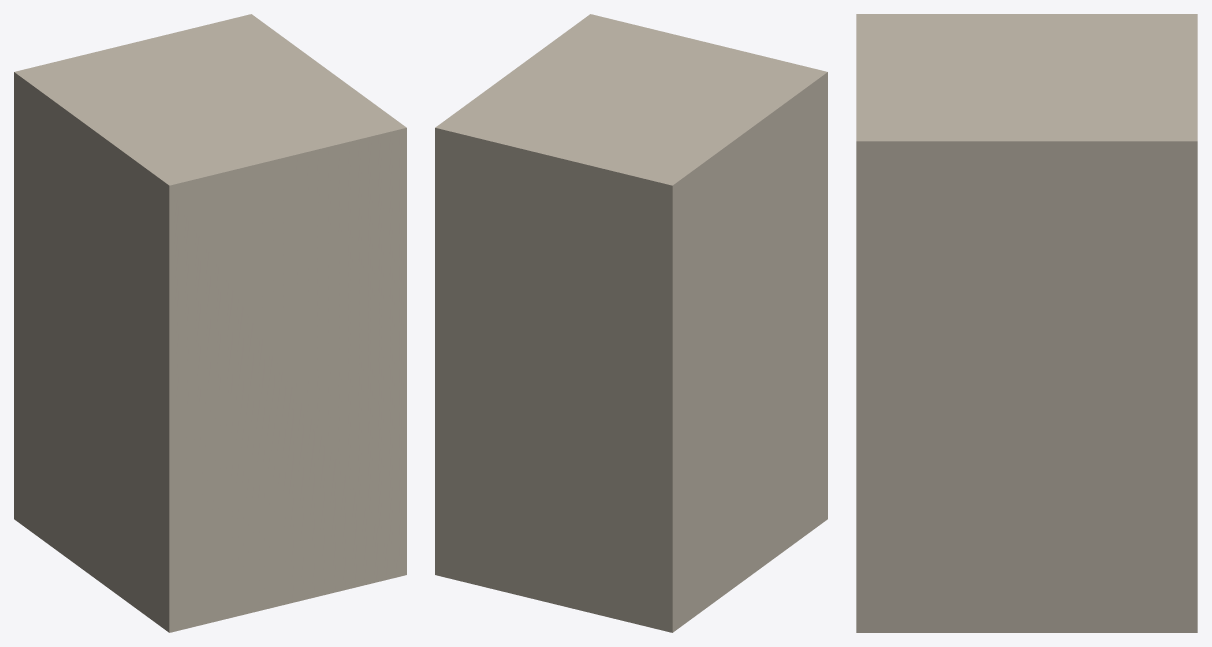
The model's file is ikea-odger-39336254-g2-proxy.glb.
3 renders of one model, left to right at view 1: azimuth 30°, elevation 25°; view 2: azimuth 150°, elevation 25°; view 3: azimuth 270°, elevation 25°, orthographic. The views are drawn at different scales.
Parts seen in each view (by area): view 1: proxy_body; view 2: proxy_body; view 3: proxy_body.
Boxes of the visible parts, x1,y1,x2,y2 form: proxy_body: (14,14,406,632); proxy_body: (435,14,827,632); proxy_body: (856,14,1197,632).
Size of the model in its own units: 0.45 by 0.81 by 0.51.
